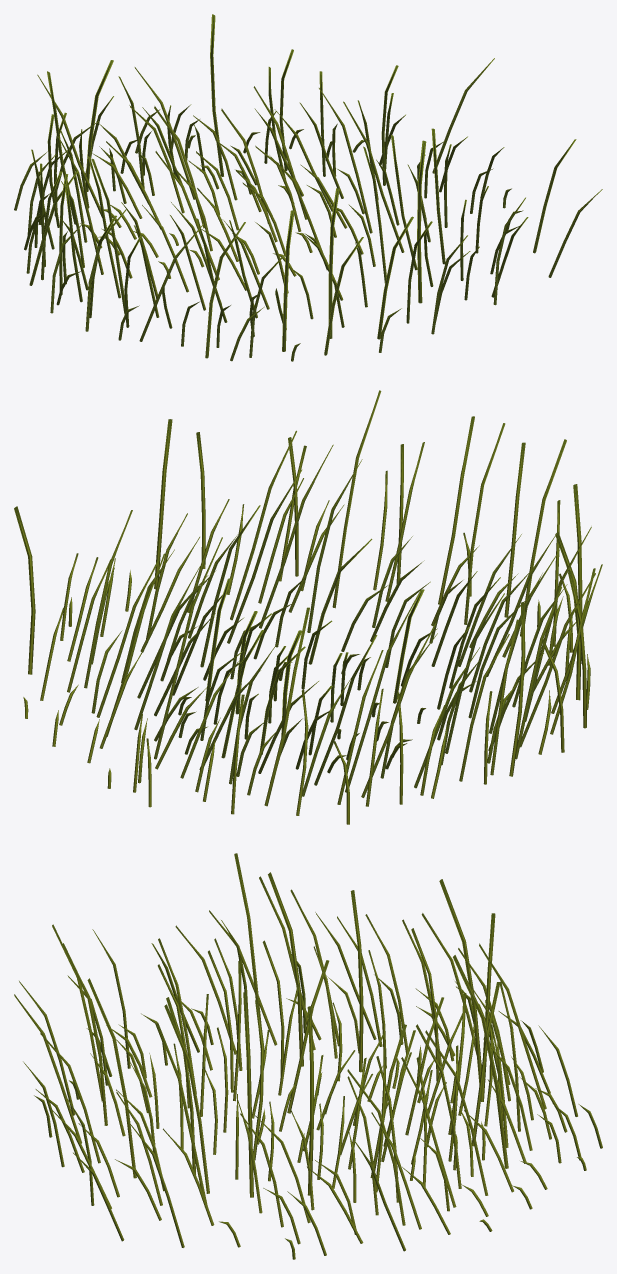
Rendered from smallgrass1.obj.
3 views of the same model, one above another, from view 1: azimuth 30°, elevation 25°; view 2: azimuth 150°, elevation 25°; view 3: azimuth 270°, elevation 25° (orthographic). The views are drawn at different scales.
Parts seen in each view (by area): view 1: tree; view 2: tree; view 3: tree.
Boxes of the visible parts, left/top/right/bottom form: tree: left=14, top=14, right=602, bottom=361; tree: left=14, top=390, right=602, bottom=824; tree: left=14, top=853, right=602, bottom=1259.
Size of the model in its own units: 157 by 59.65 by 162.
Materials: 1 (1 with a texture image).
